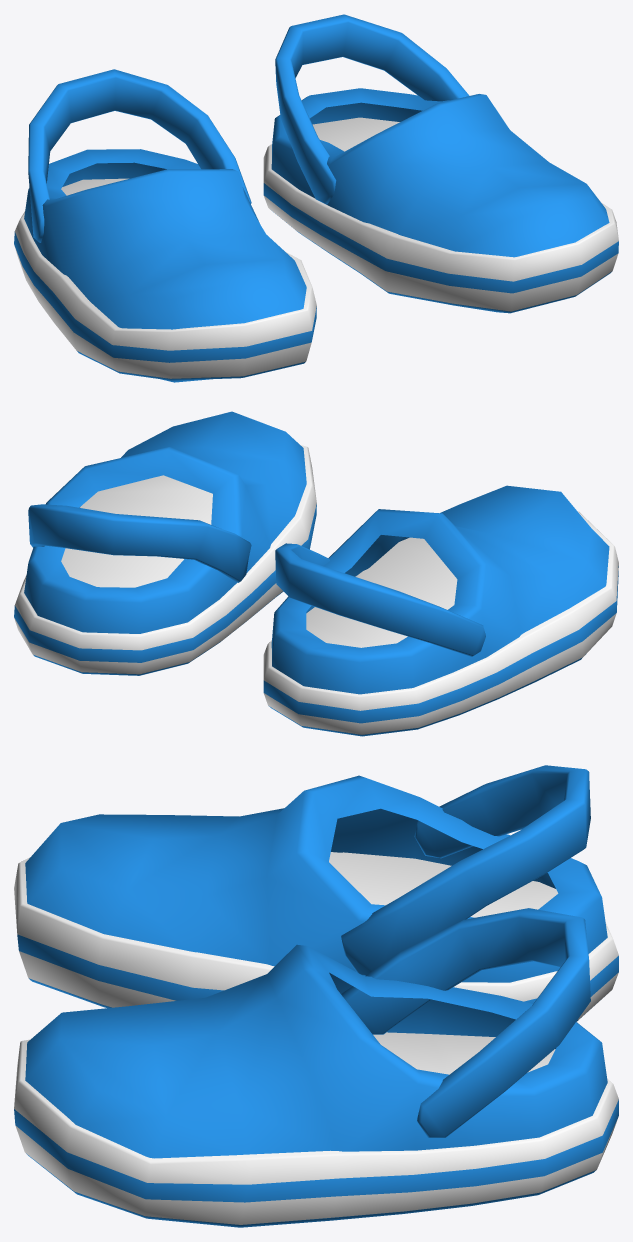
The model's file is Shoe_Sneaker_010.glb.
The picture shows the model from 3 angles, top to bottom: view 1: azimuth 30°, elevation 25°; view 2: azimuth 150°, elevation 25°; view 3: azimuth 270°, elevation 25°; orthographic projection. The views are drawn at different scales.
Visible parts, largest first — view 1: Shoe_Sneaker_010; view 2: Shoe_Sneaker_010; view 3: Shoe_Sneaker_010.
Boxes of the visible parts, x1,y1,x2,y2 form: Shoe_Sneaker_010: (14,14,618,382); Shoe_Sneaker_010: (14,411,618,736); Shoe_Sneaker_010: (14,765,618,1227).
Bounding box in the file's own units: 0.4416 × 0.1342 × 0.3381.
Materials: 1 (1 with a texture image).
